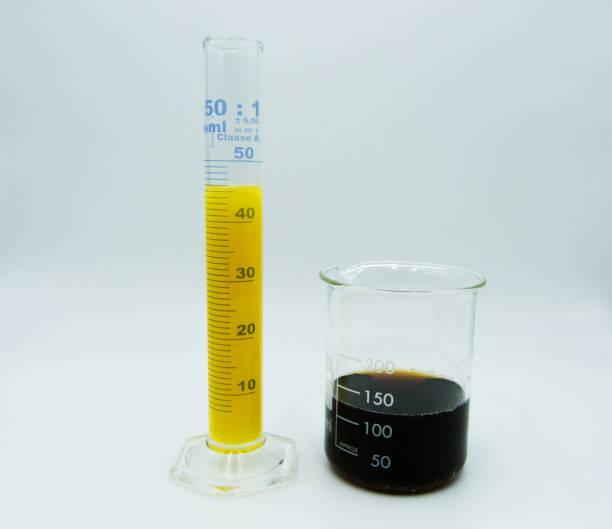Beaker: (316, 238, 477, 498)
Test tube: (197, 28, 265, 467)
